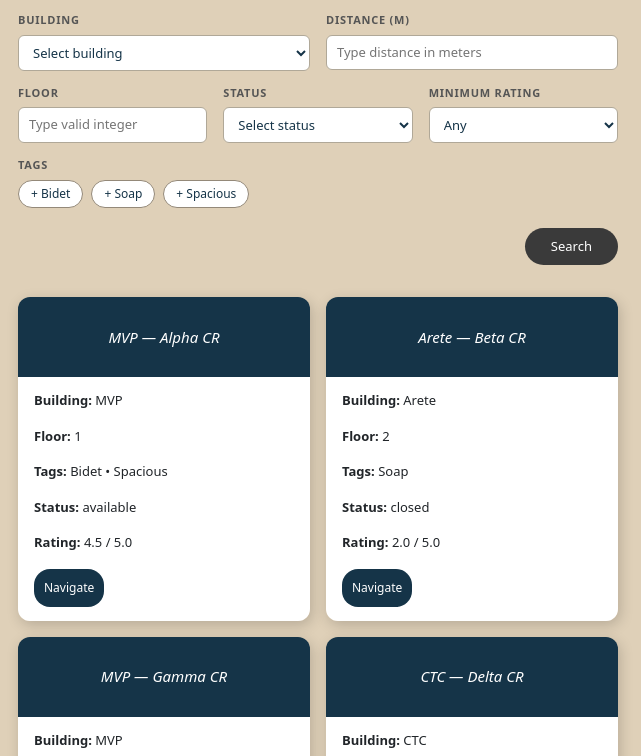
Test: CR Search filters › filters by floor
Type "1" into the number field with placeholder "Type valid integer" at [113, 125], box [18,107,207,142]
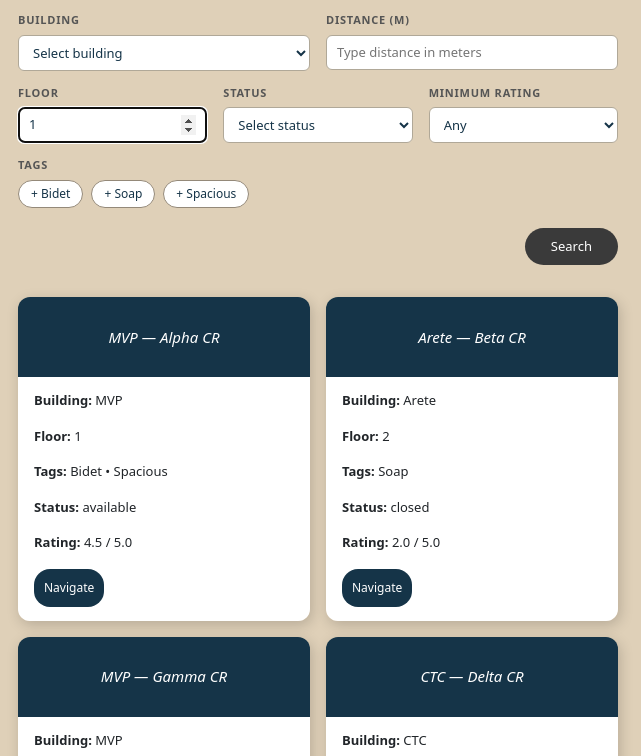
Click the button "Search" at [571, 246], box [525,228,618,265]
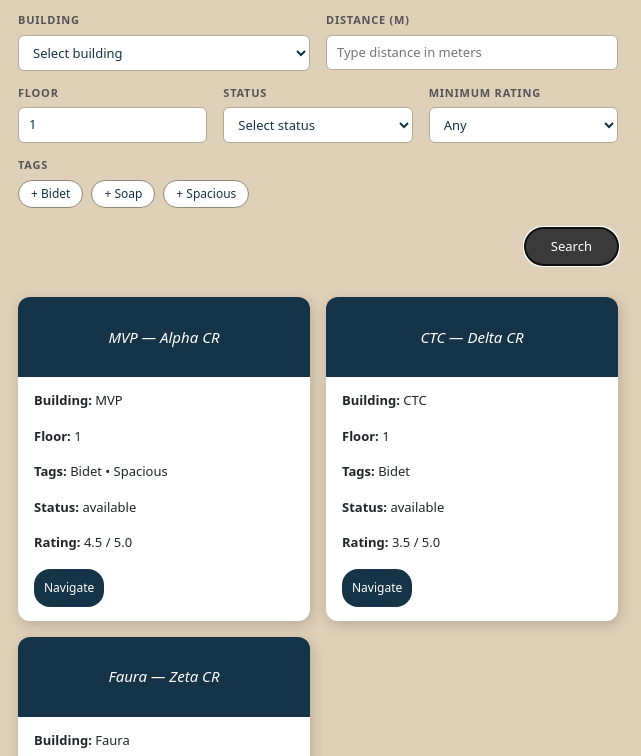
Result: the link "Arete — Beta CR" is gone
Result: the link "MVP — Gamma CR" is gone
